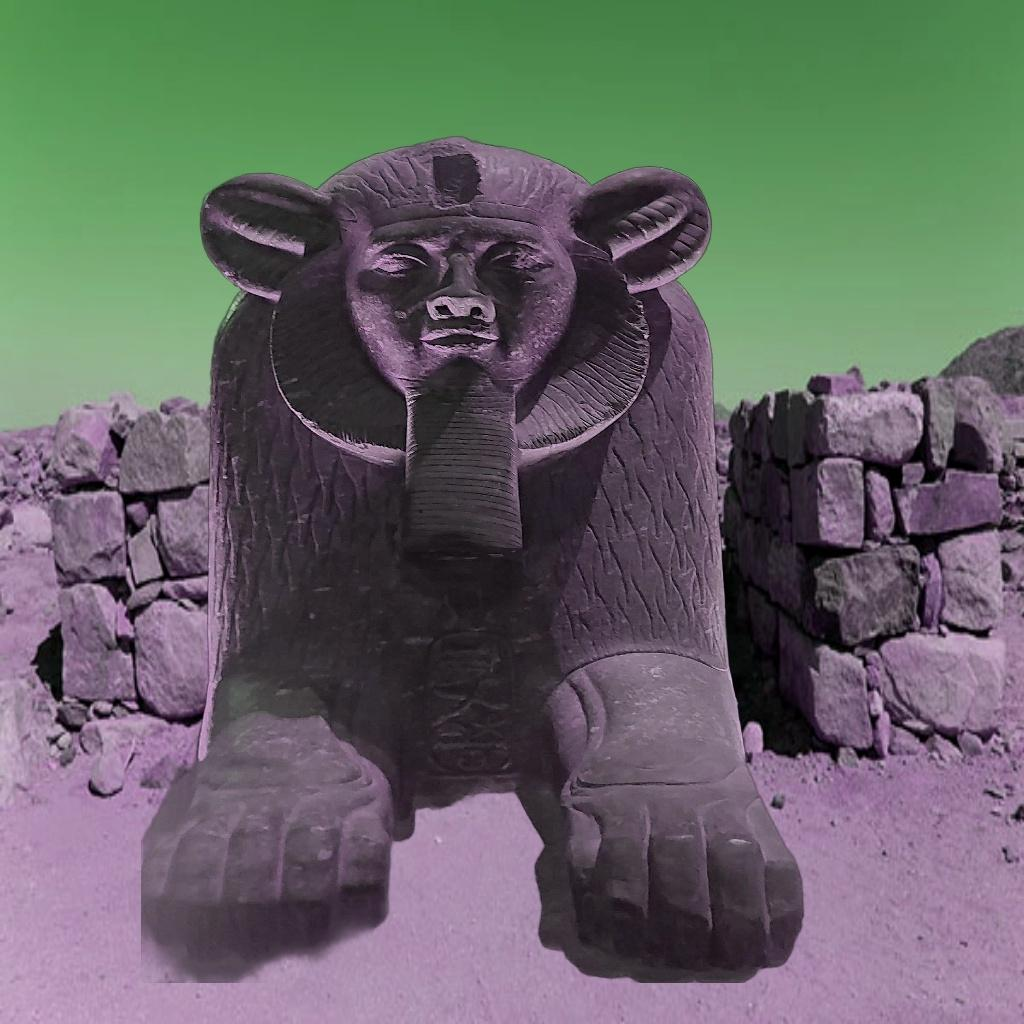Sphinx of Amenmhat III: (142, 133, 810, 983)
